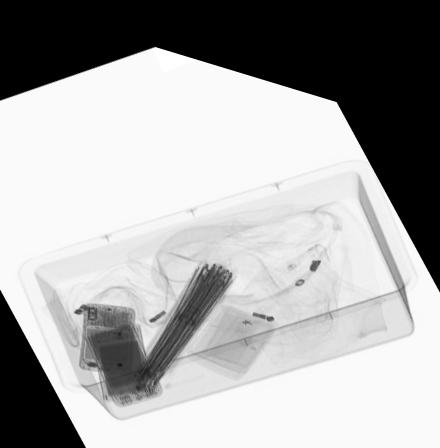Powerbank: (89, 314, 154, 396)
